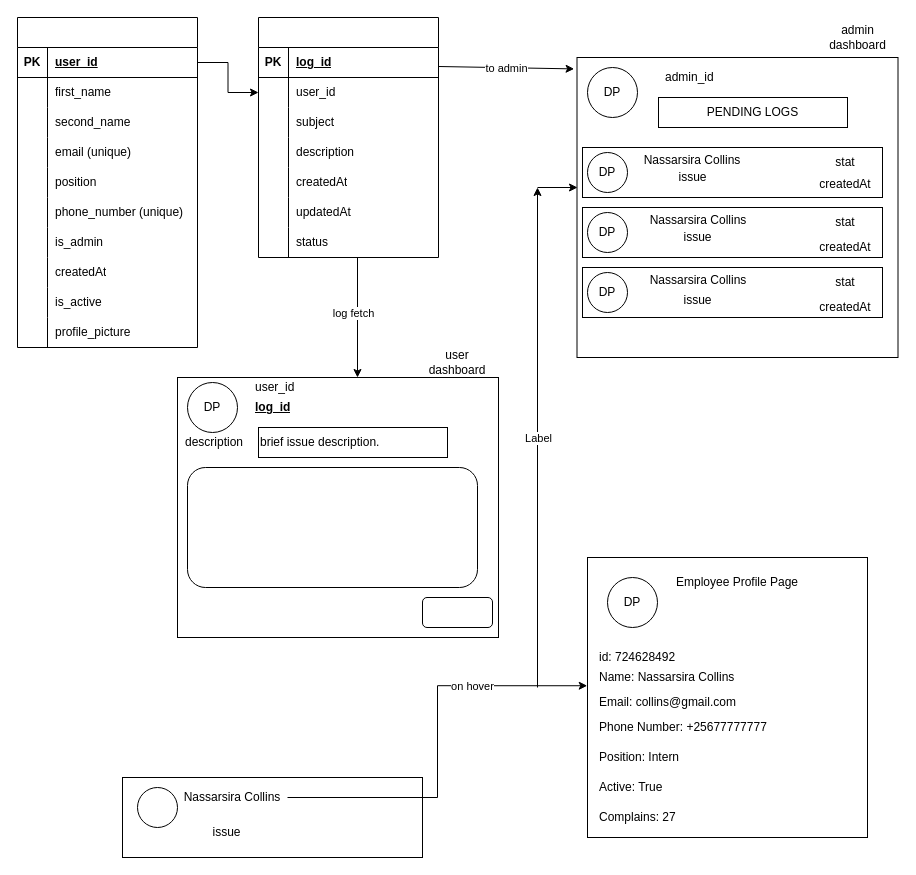
The diagram is 916 pixels wide and 875 high, and some of its shapes have lost their labels. The box of each missing label's shape, as (x1, y1, x2, y2) in pixels:
Complains/logs: (258, 16, 438, 258)
FULL CONTEXT OF THE ISSUE: (186, 466, 478, 588)
SUBMIT: (422, 596, 492, 628)
Users: (16, 16, 198, 348)
